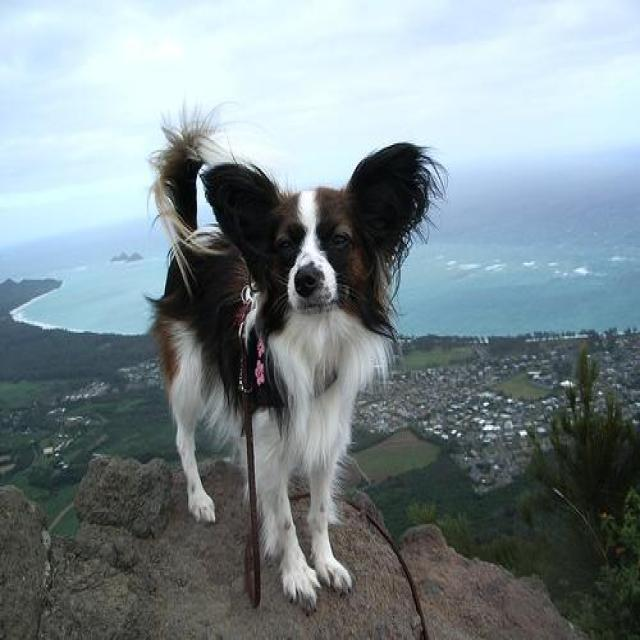papillon: (143, 88, 453, 620)
